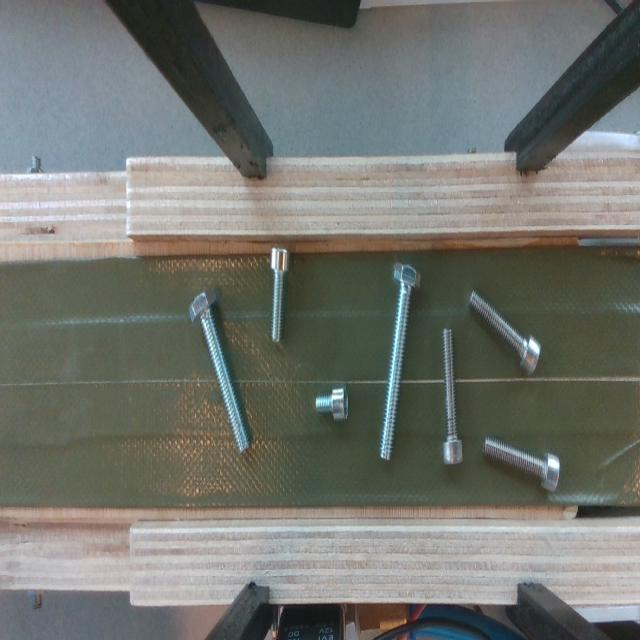Bolt: (190, 288, 249, 452), (380, 262, 421, 458), (469, 290, 540, 374), (482, 435, 560, 491), (442, 328, 462, 464), (270, 247, 289, 343), (315, 388, 348, 421)
